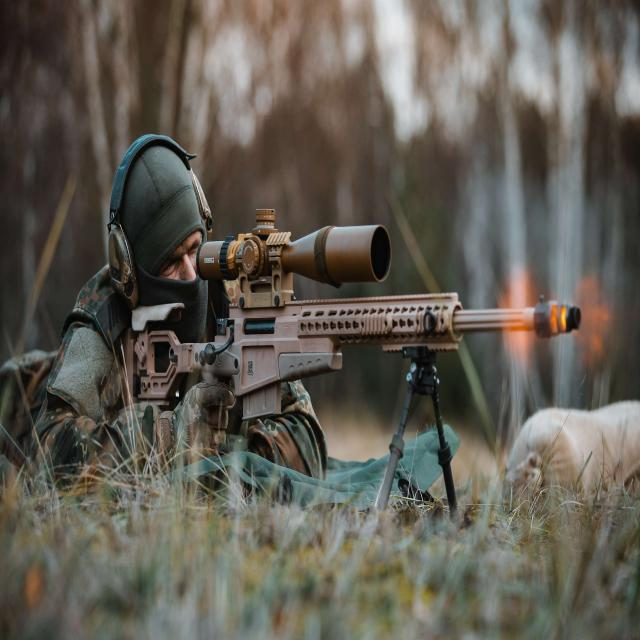scope: (188, 190, 398, 304)
sniper rifle: (125, 218, 588, 505)
